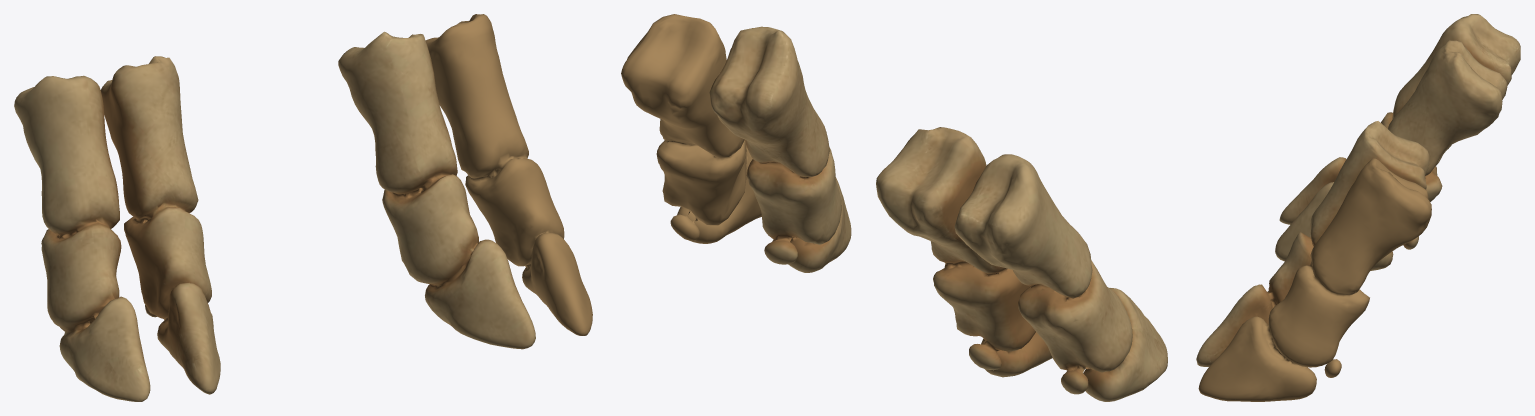
Rendered from phalanges.glb.
The picture shows the model from 3 angles, left to right: view 1: azimuth 30°, elevation 25°; view 2: azimuth 150°, elevation 25°; view 3: azimuth 270°, elevation 25°; orthographic projection. The views are drawn at different scales.
Visible parts, largest first — view 1: Phalanges; view 2: Phalanges; view 3: Phalanges.
Part boxes in pixels (<box>): Phalanges: <box>14,14,592,401</box>; Phalanges: <box>621,14,1167,401</box>; Phalanges: <box>1196,14,1520,401</box>.
Size of the model in its own units: 155 by 86.27 by 106.
1 material, 1 textured.
